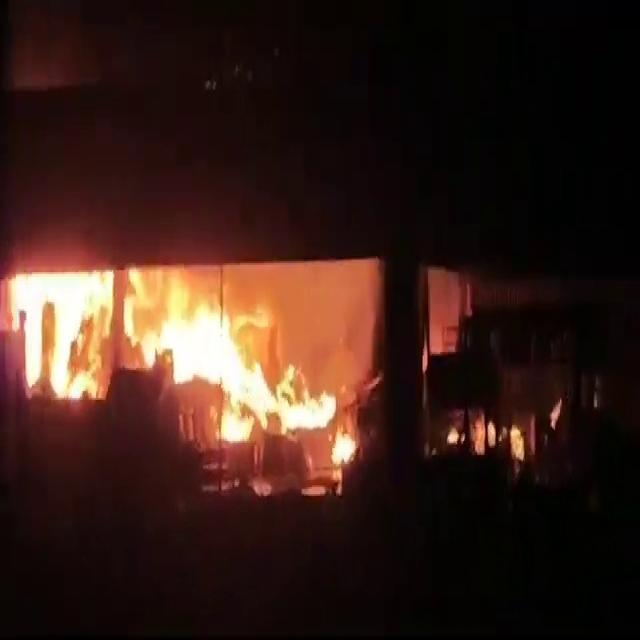Fire: (7, 272, 335, 441), (330, 430, 357, 464), (508, 423, 526, 461)
Smoke: (205, 264, 381, 388), (8, 11, 110, 84)
